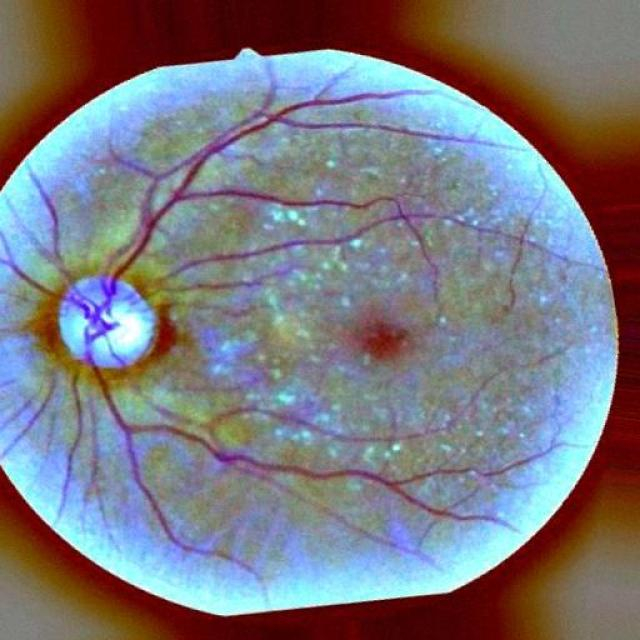Macula: (358, 324, 401, 365)
Nerves: (2, 111, 438, 350), (76, 354, 548, 574), (106, 341, 205, 430), (215, 404, 389, 442), (1, 379, 54, 458), (60, 370, 84, 512), (182, 269, 289, 290)
Optic Disk: (58, 283, 154, 370)
